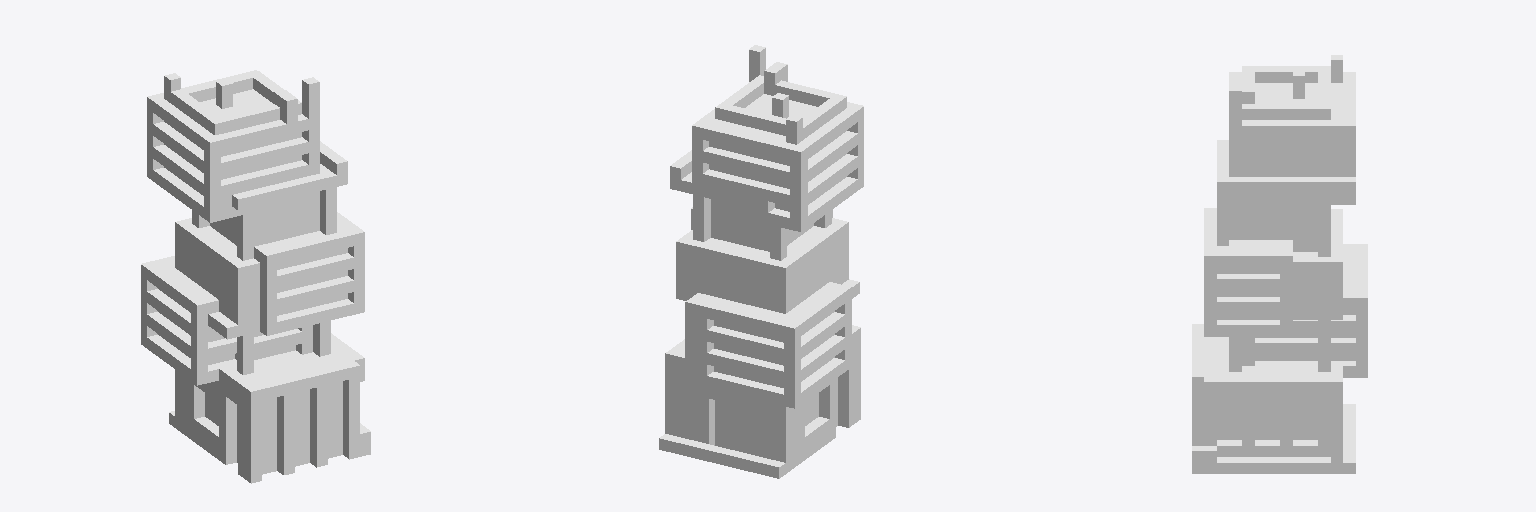
File: building.obj
The picture shows the model from 3 angles: view 1: azimuth 30°, elevation 25°; view 2: azimuth 150°, elevation 25°; view 3: azimuth 270°, elevation 25°; orthographic projection.
Parts seen in each view (by area): view 1: object 1; view 2: object 1; view 3: object 1.
Part boxes in pixels (left/top/right/bottom): object 1: left=141, top=70, right=370, bottom=483; object 1: left=659, top=45, right=863, bottom=478; object 1: left=1192, top=55, right=1367, bottom=473.
Bounding box in the file's own units: 1.3 × 3.2 × 1.4.